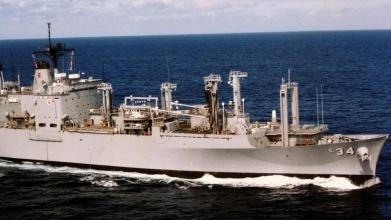warship: (2, 30, 381, 179)
